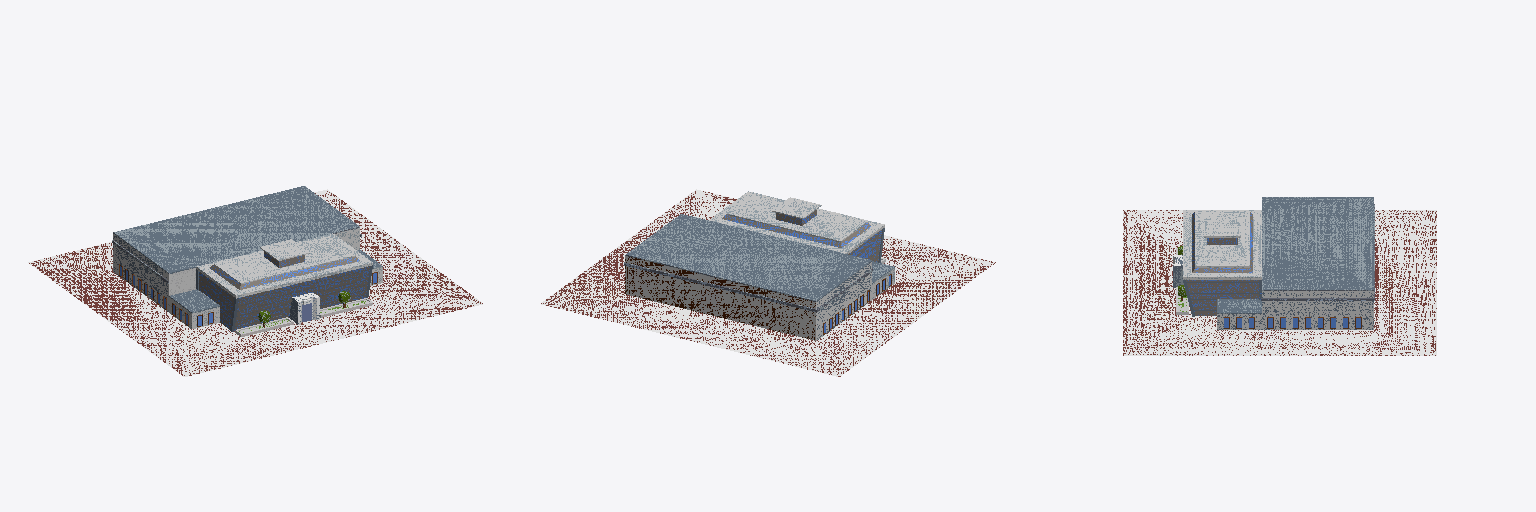
3 renders of one model, left to right at view 1: azimuth 30°, elevation 25°; view 2: azimuth 150°, elevation 25°; view 3: azimuth 270°, elevation 25°, orthographic.
Visible parts, largest first — view 1: Mesh85 Model; view 2: Mesh85 Model; view 3: Mesh85 Model.
Part boxes in pixels (left/top/right/bottom): Mesh85 Model: left=28, top=186, right=482, bottom=376; Mesh85 Model: left=541, top=189, right=995, bottom=376; Mesh85 Model: left=1123, top=197, right=1436, bottom=355.
Size of the model in its own units: 55.15 by 9.6 by 50.
20 materials, 4 textured.